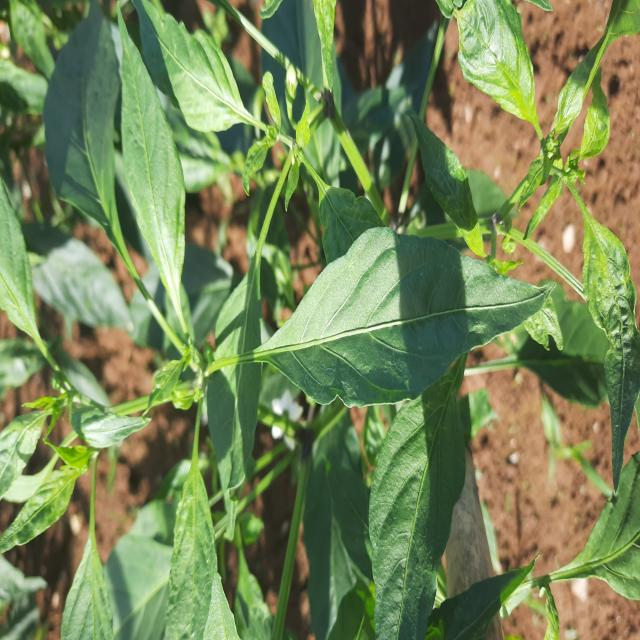thrips: (578, 185, 638, 508), (456, 0, 542, 138)
